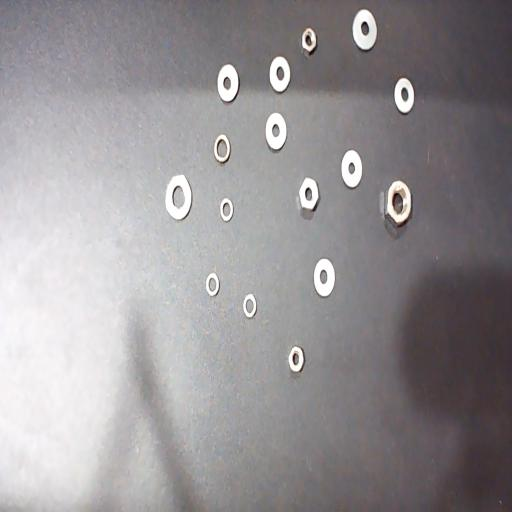nut: (385, 180, 412, 228), (299, 177, 319, 211), (288, 346, 304, 372), (302, 28, 316, 55)
washer: (166, 174, 192, 220), (352, 8, 377, 50), (314, 258, 335, 297), (217, 64, 239, 101), (341, 150, 362, 187), (266, 112, 286, 149), (270, 56, 290, 92), (394, 77, 414, 113), (214, 134, 230, 162), (242, 294, 256, 318), (220, 198, 234, 221), (206, 272, 219, 295)
